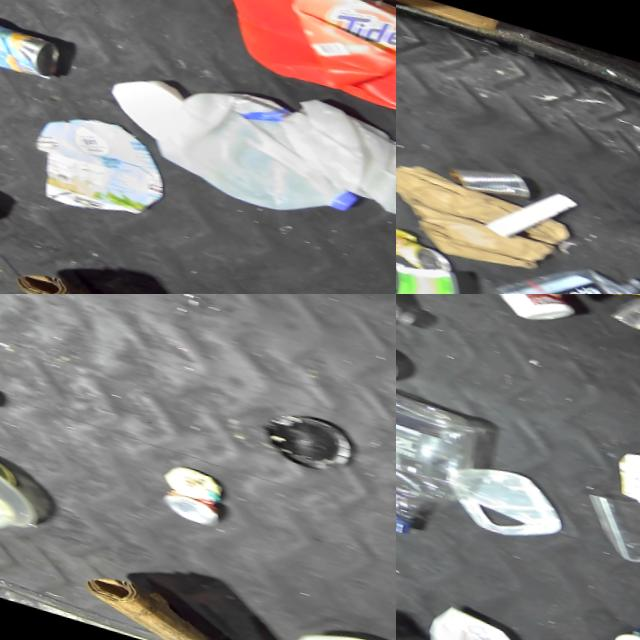can: (442, 146, 532, 198), (0, 6, 61, 82), (396, 210, 457, 272), (153, 483, 216, 525)
milk_jug: (140, 59, 370, 229), (263, 79, 396, 221), (271, 609, 396, 640), (0, 448, 14, 485)
non_white_jug: (192, 0, 396, 128)
plastic_bottle: (396, 371, 489, 549), (477, 227, 640, 294), (622, 116, 640, 183)
